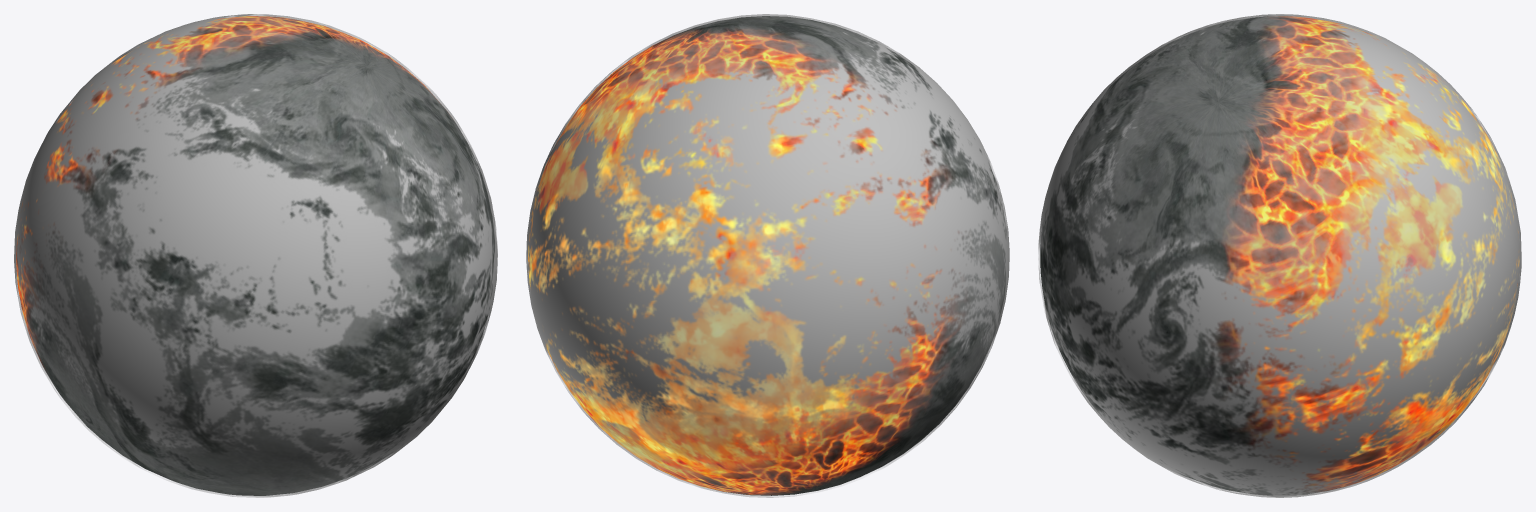
File: planet_lava.glb
3 views of the same model, side by side, from view 1: azimuth 30°, elevation 25°; view 2: azimuth 150°, elevation 25°; view 3: azimuth 270°, elevation 25° (orthographic).
Visible parts, largest first — view 1: clouds, planet_planet_0; view 2: clouds, planet_planet_0; view 3: clouds, planet_planet_0.
Boxes of the visible parts, x1,y1,x2,y2 form: clouds: [14, 14, 497, 497]; planet_planet_0: [16, 16, 494, 495]; clouds: [526, 14, 1009, 497]; planet_planet_0: [528, 16, 1006, 495]; clouds: [1038, 14, 1521, 497]; planet_planet_0: [1040, 16, 1519, 495].
Bounding box in the file's own units: 2.02 × 2.02 × 2.01.
2 materials, 2 textured.
